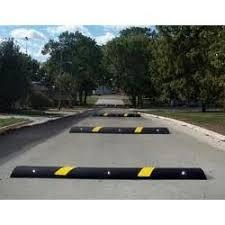Bump: (18, 163, 214, 189), (72, 119, 171, 141), (91, 110, 146, 118)
